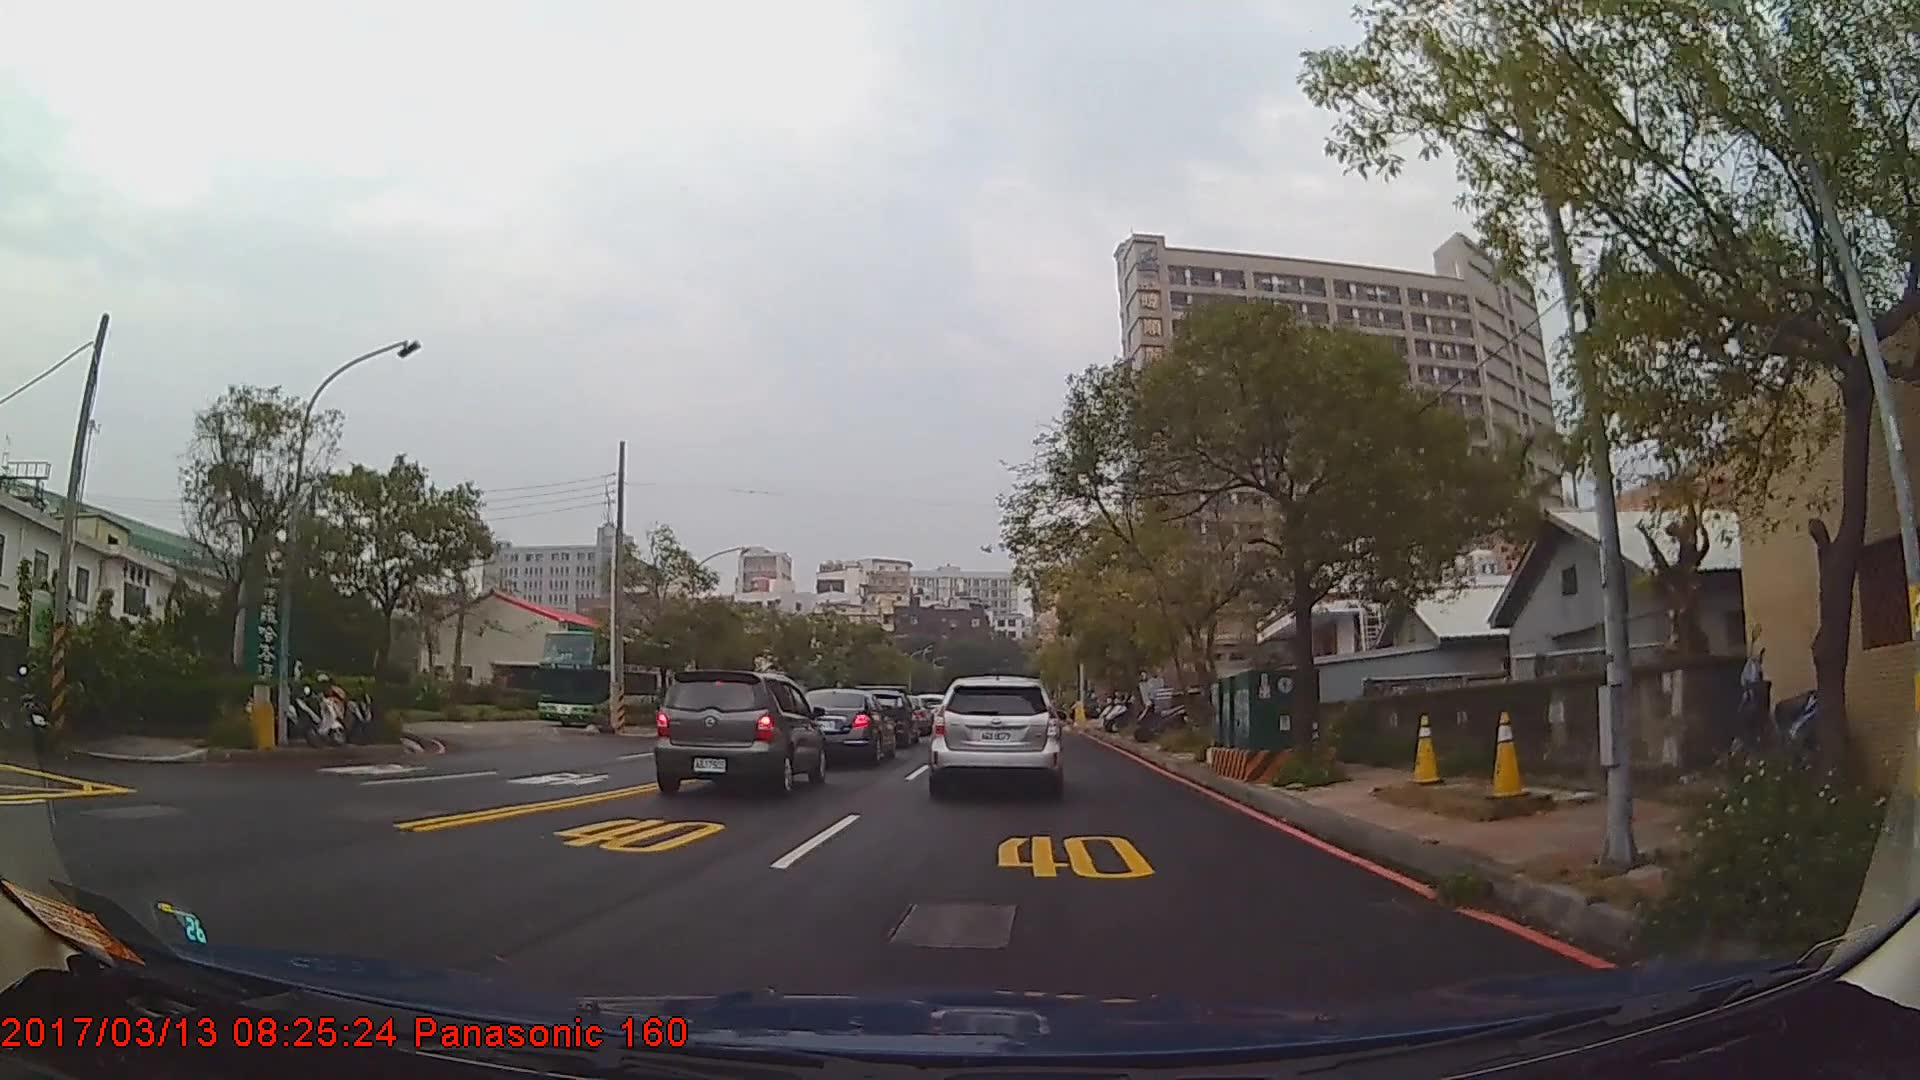vehicle: (649, 669, 822, 796), (534, 630, 690, 735), (928, 673, 1063, 793), (789, 687, 895, 767)
